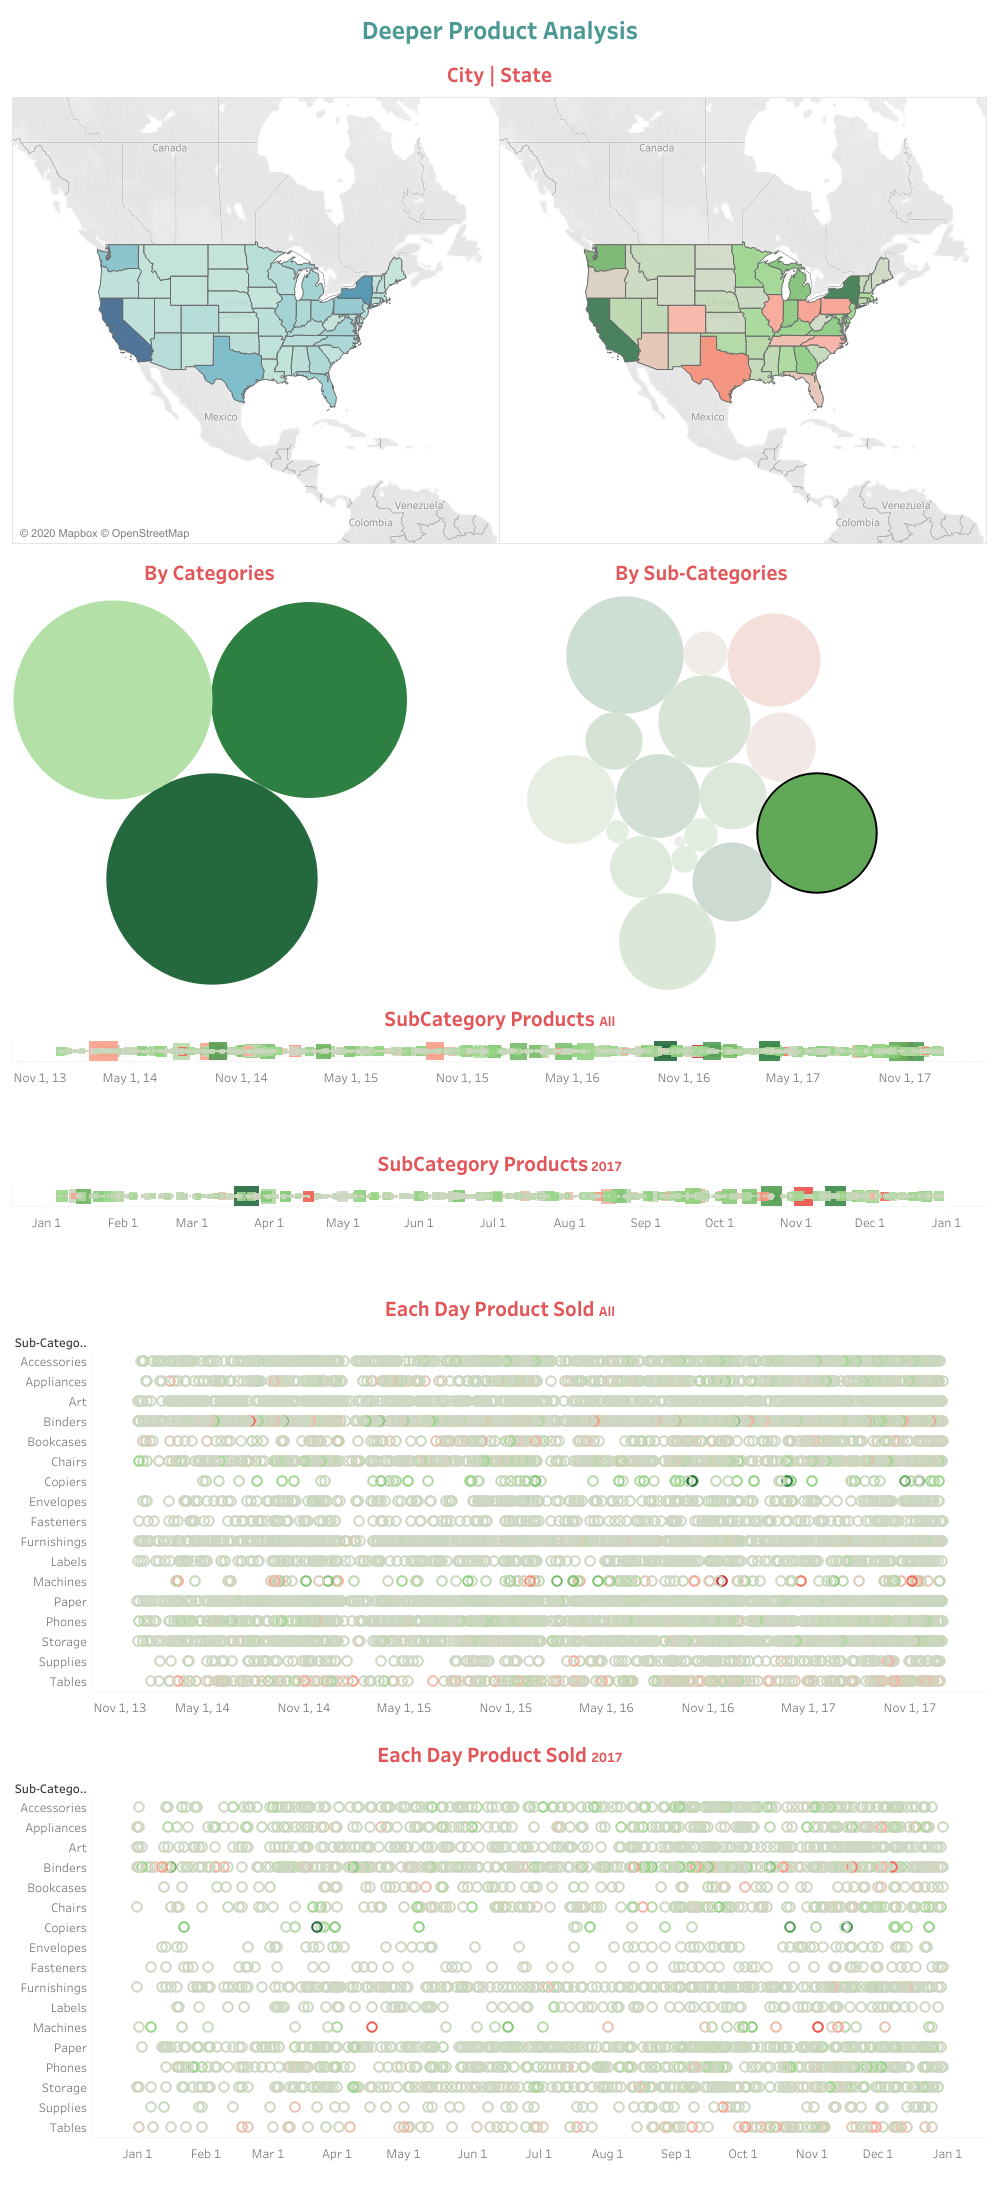

The page's visual inventory and layout, read from the dashboard file:
{"tool":"tableau","page":{"name":"CityCategories","canvas":[1000,2200],"ordinal":1},"visuals":[{"type":"worksheet","box":[0,0,1000,2200]},{"type":"worksheet","param":"vert","box":[8,8,984,2184]},{"type":"worksheet","box":[8,8,984,42]},{"type":"worksheet","param":"horz","box":[8,50,984,2142]},{"type":"worksheet","param":"horz","box":[8,50,984,2142]},{"type":"worksheet","box":[8,50,984,2142]},{"type":"worksheet","title":"CityState","mark":"Automatic","box":[8,50,984,498.2]},{"type":"worksheet","title":"ByCategories","mark":"Circle","box":[8,548.2,492,446.2]},{"type":"worksheet","title":"BySubCategories","mark":"Circle","box":[500,548.2,492,446.2]},{"type":"worksheet","title":"SubcategoriesProfitAllDate","mark":"Square","cols":["Order Date"],"box":[8,994.5,984,144.2]},{"type":"worksheet","title":"SubcategoriesProfit2017","mark":"Square","cols":["Order Date"],"box":[8,1138.6,984,145.2]},{"type":"worksheet","title":"SubView","mark":"Shape","rows":["Sub-Category"],"cols":["Order Date"],"box":[8,1283.8,984,446.2]},{"type":"worksheet","title":"Subview2017","mark":"Shape","rows":["Sub-Category"],"cols":["Order Date"],"box":[8,1730,984,462]}]}

Visuals, with their boxes in screenshot pixels (x1, y1, x2, y2), scaled from the page's 1000x2200 canvas onto the 1000x2200 screenshot:
worksheet: 0,0,999,2199
worksheet: 8,8,992,2192
worksheet: 8,8,992,50
worksheet: 8,50,992,2192
worksheet: 8,50,992,2192
worksheet: 8,50,992,2192
"CityState" worksheet: 8,50,992,548
"ByCategories" worksheet (Circle marks): 8,548,500,994
"BySubCategories" worksheet (Circle marks): 500,548,992,994
"SubcategoriesProfitAllDate" worksheet (Square marks): 8,994,992,1139
"SubcategoriesProfit2017" worksheet (Square marks): 8,1139,992,1284
"SubView" worksheet (Shape marks): 8,1284,992,1730
"Subview2017" worksheet (Shape marks): 8,1730,992,2192
